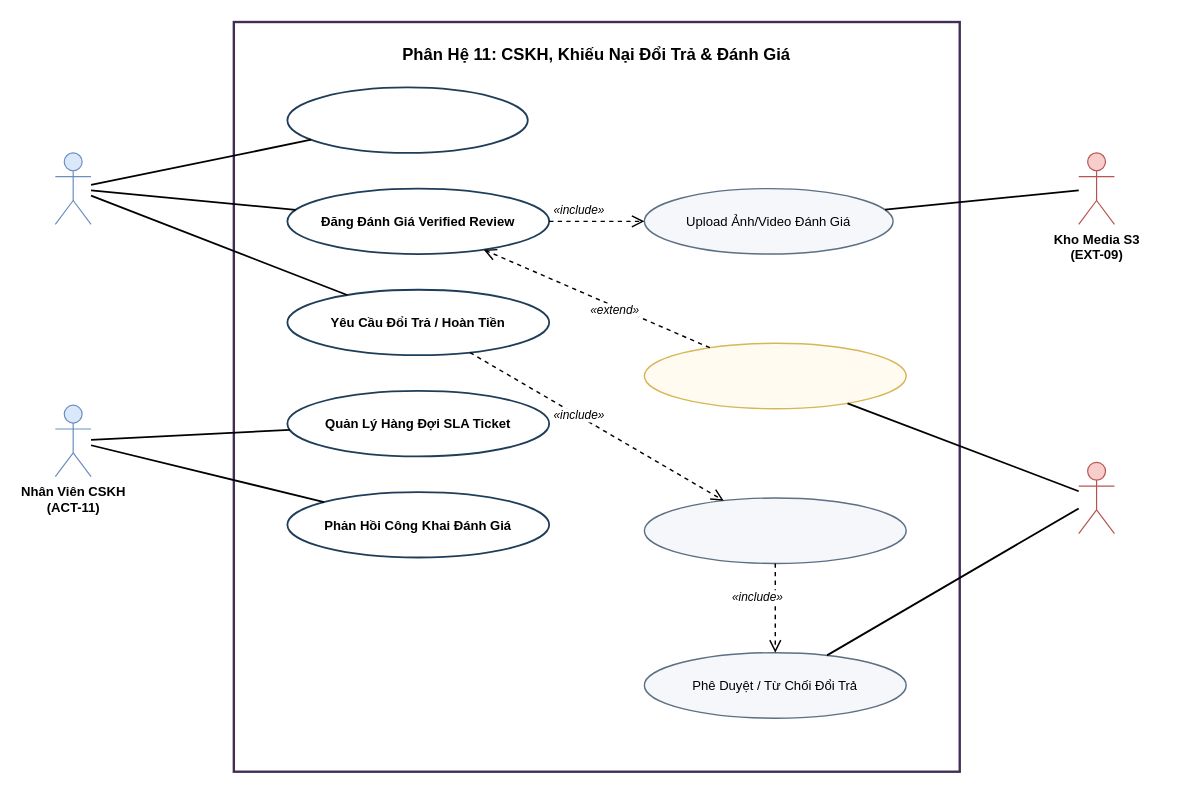
This 1182x793 diagram has some shape labels left out. Each missing label, with the centre of its shape:
Gửi Yêu Cầu & Tạo Ticket: (407,119)
Khách Hàng (ACT-02): (72,188)
Kiểm Duyệt & Ẩn Đánh Giá Xấu: (774,375)
Quản Lý Kinh Doanh (ACT-12): (1096,497)
Thẩm Định & Tra Cứu Video Gói: (774,530)
